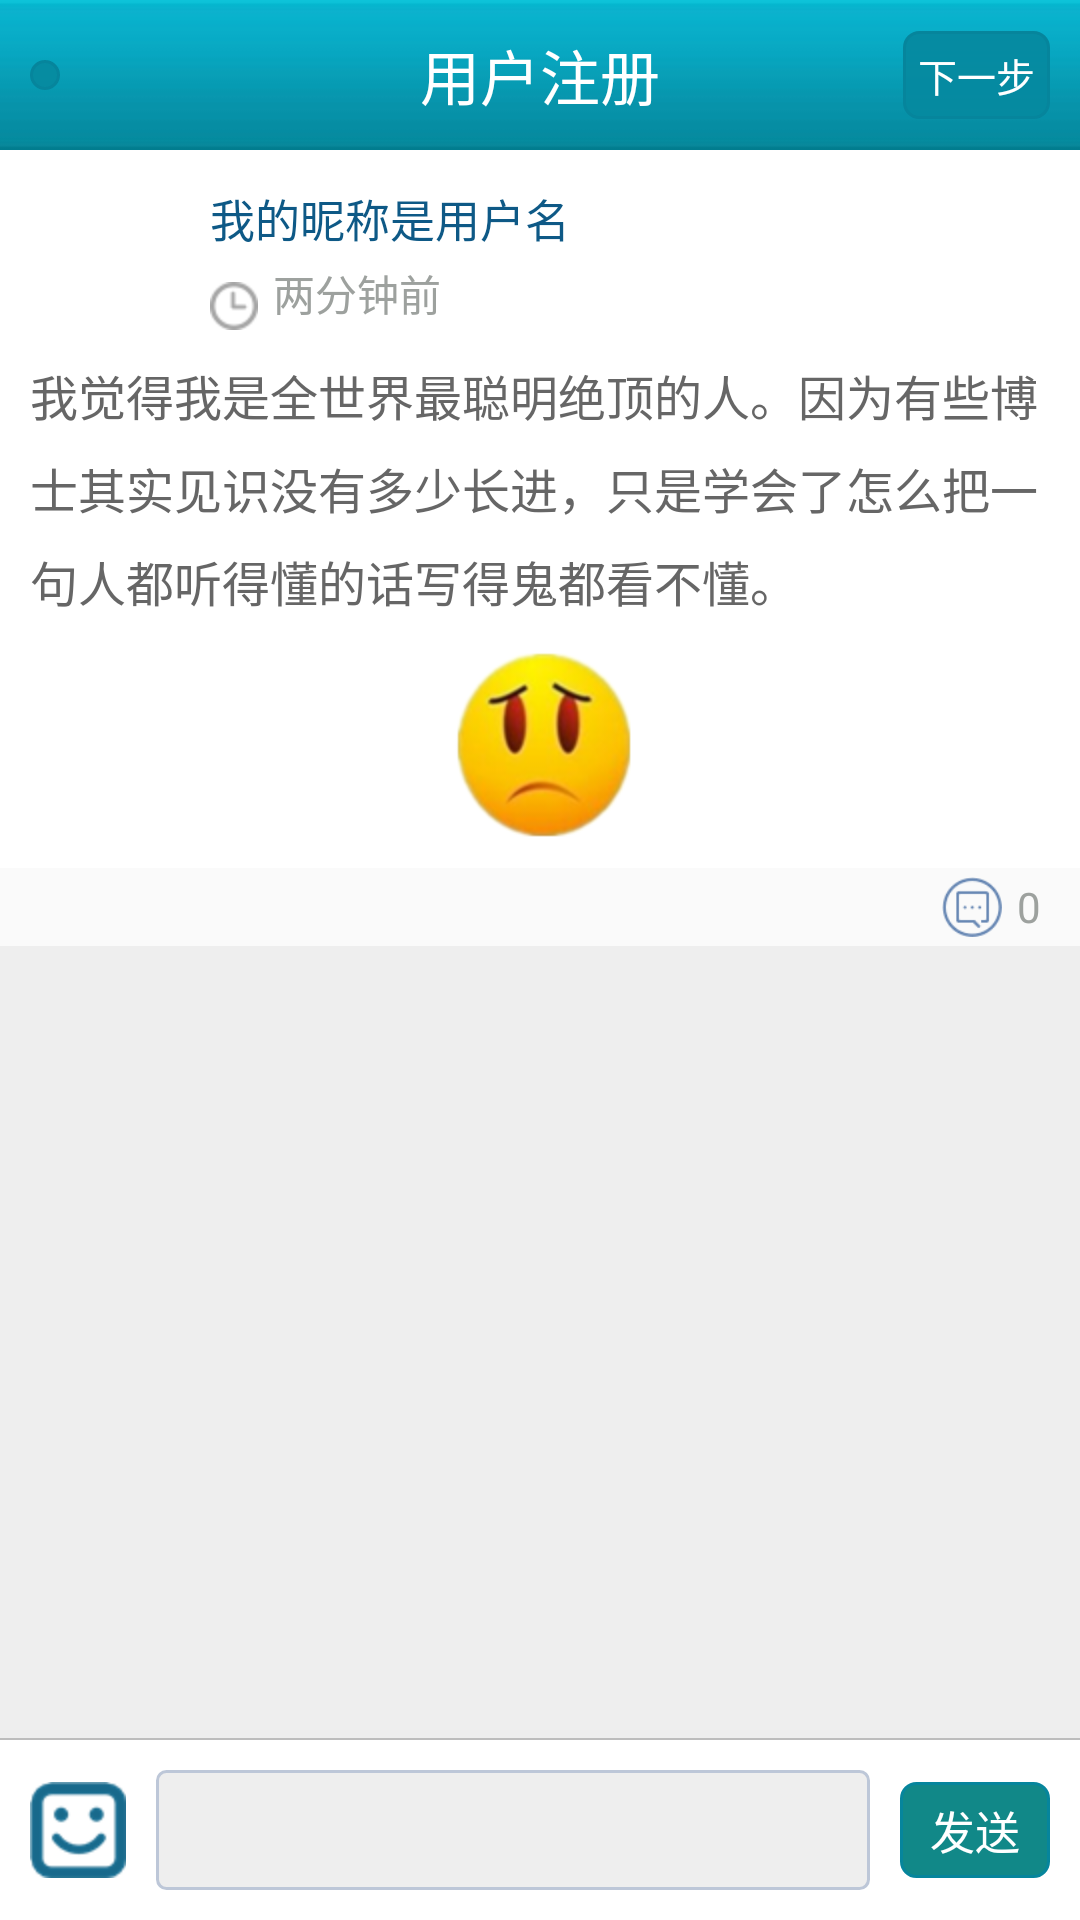

Icon bounding boxes for this 1080 × 1920 phone screenshot, format bbox(x1, y1, x2, y2):
share comment: bbox(942, 877, 1002, 937)
share date: bbox(210, 282, 258, 330)
